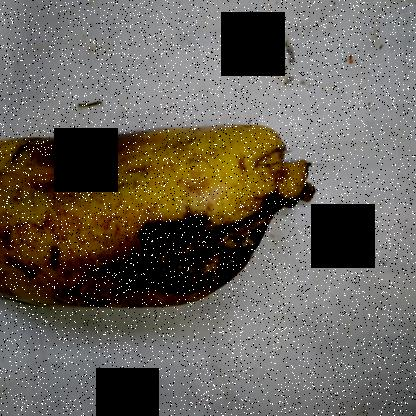ripe: (0, 127, 123, 344)
rotten: (94, 221, 295, 318), (14, 96, 166, 178)
